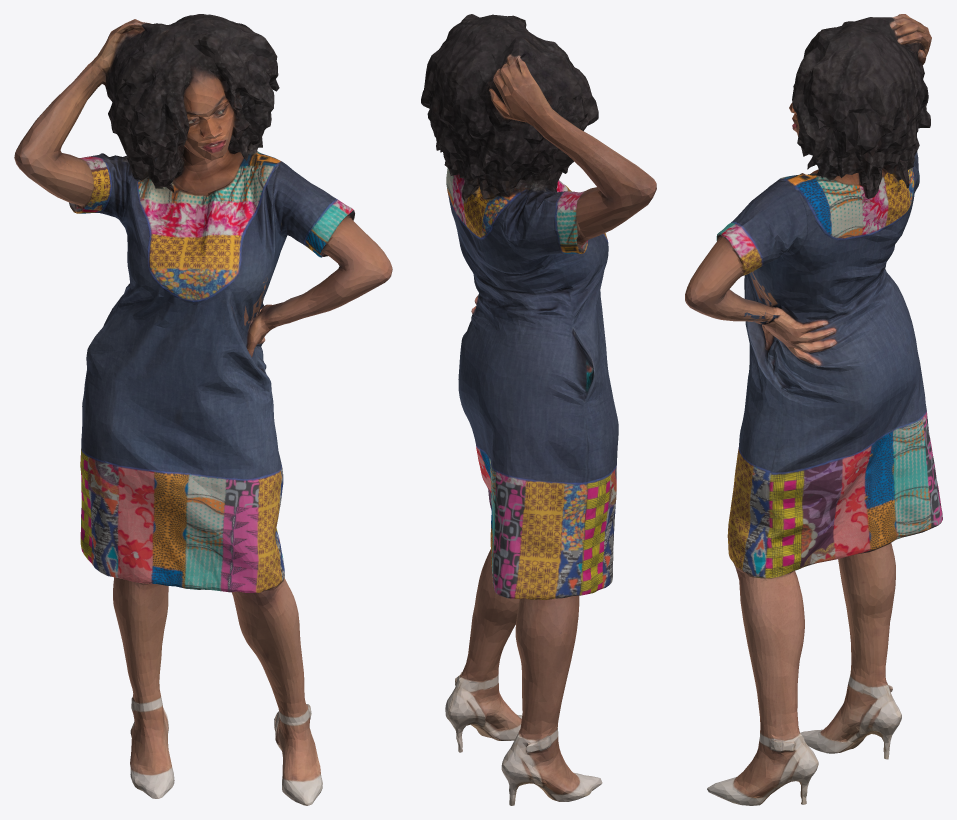
3 views of the same model, side by side, from view 1: azimuth 30°, elevation 25°; view 2: azimuth 150°, elevation 25°; view 3: azimuth 270°, elevation 25° (orthographic). The views are drawn at different scales.
Size of the model in its own units: 69.22 by 175 by 54.79.
1 material, 1 textured.
